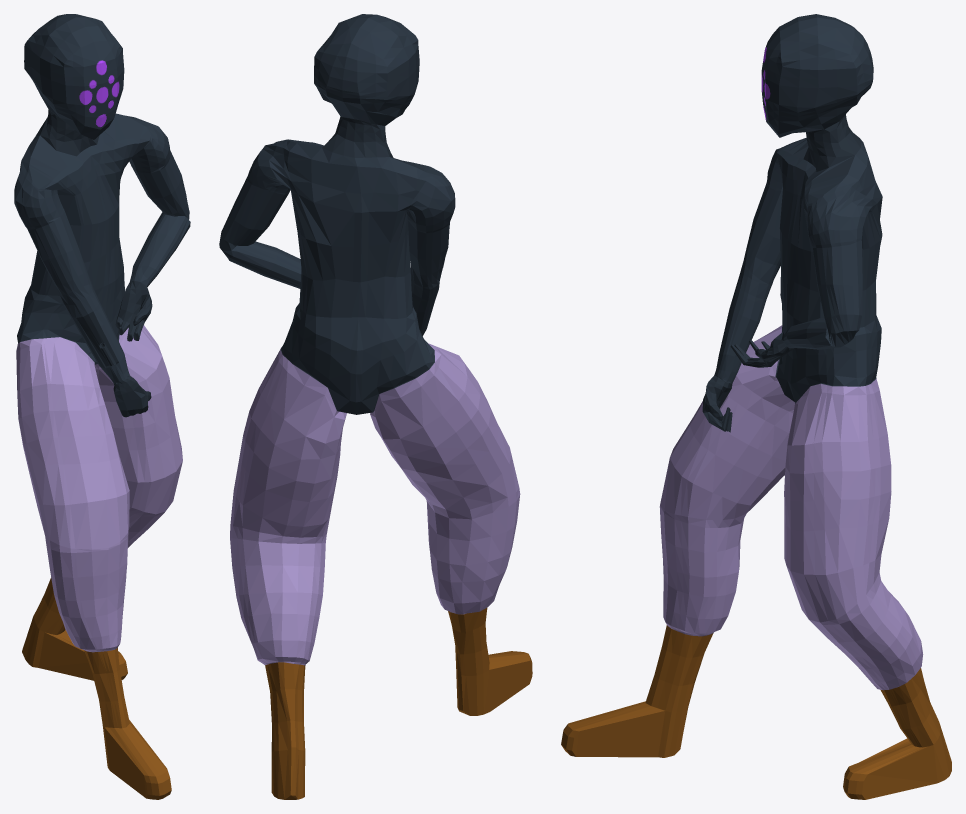
Rendered from Oracle_WF_000014.obj.
3 views of the same model, side by side, from view 1: azimuth 30°, elevation 25°; view 2: azimuth 150°, elevation 25°; view 3: azimuth 270°, elevation 25° (orthographic). The views are drawn at different scales.
Visible parts, largest first — view 1: Cube; view 2: Cube; view 3: Cube.
Part boxes in pixels (x1=…): Cube: x1=14, y1=14, x2=190, y2=799; Cube: x1=219, y1=14, x2=532, y2=799; Cube: x1=561, y1=14, x2=951, y2=799.
Size of the model in its own units: 1.17 by 3.75 by 1.77.
